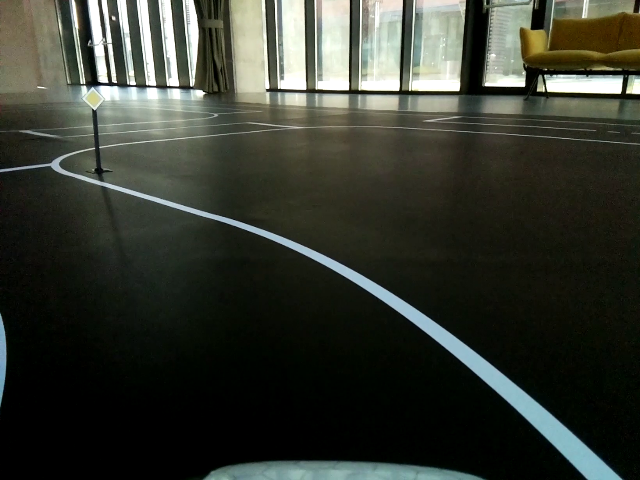priority: (80, 86, 104, 110)
